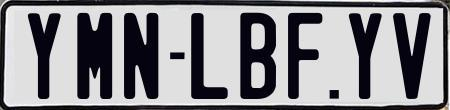B: (238, 10, 278, 97)
F: (287, 11, 326, 97)
L: (191, 10, 231, 97)
M: (74, 10, 109, 100)
N: (123, 11, 162, 101)
V: (390, 13, 431, 105)
Y: (28, 12, 65, 99), (349, 13, 383, 102)
